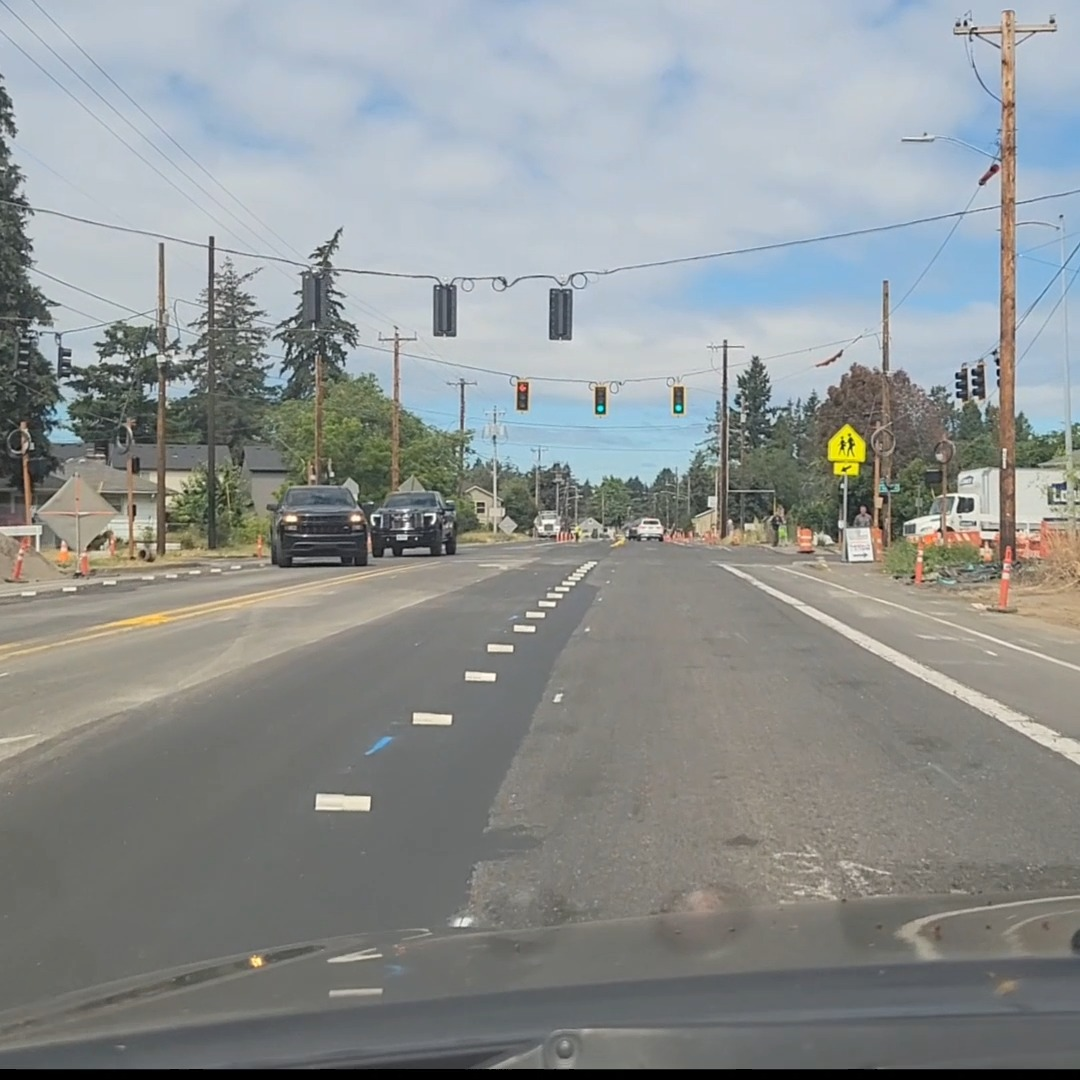car: (265, 484, 371, 567), (368, 489, 459, 558), (626, 517, 664, 541)
crosswalk-sign: (827, 422, 866, 472)
delineator: (913, 542, 924, 583), (77, 550, 90, 576), (255, 533, 264, 557)
